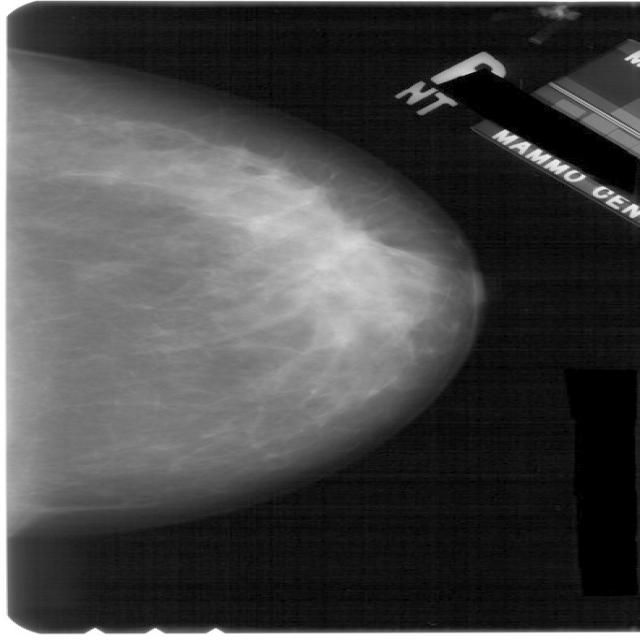tumour: (322, 221, 381, 257)
